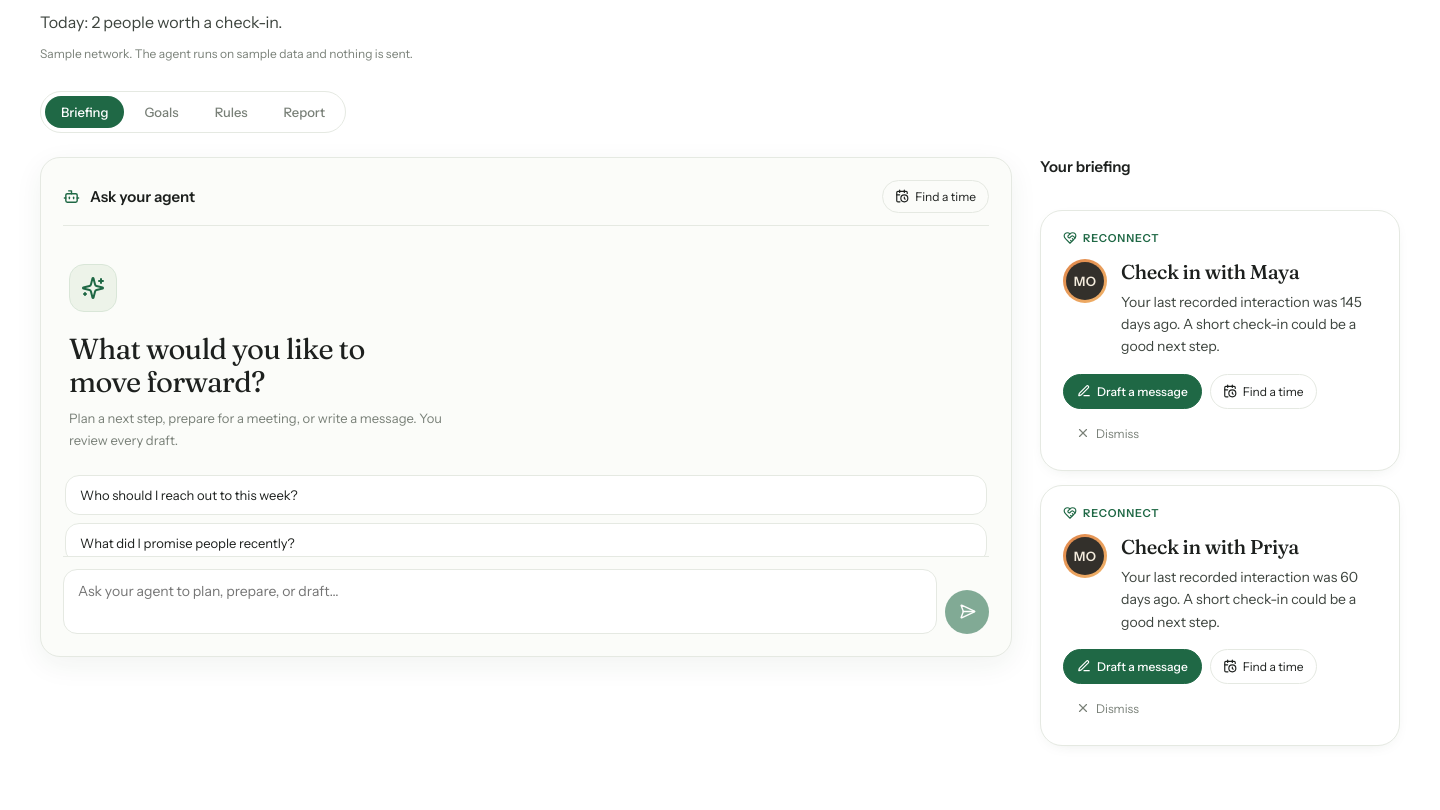
agent home › finds a time with someone from a reconnect card
The width and height of the screenshot is (1440, 810).
(page scrolled)
Click the button "Find a time" below "Check in with Priya" at (1263, 666), box [1210, 649, 1316, 684]
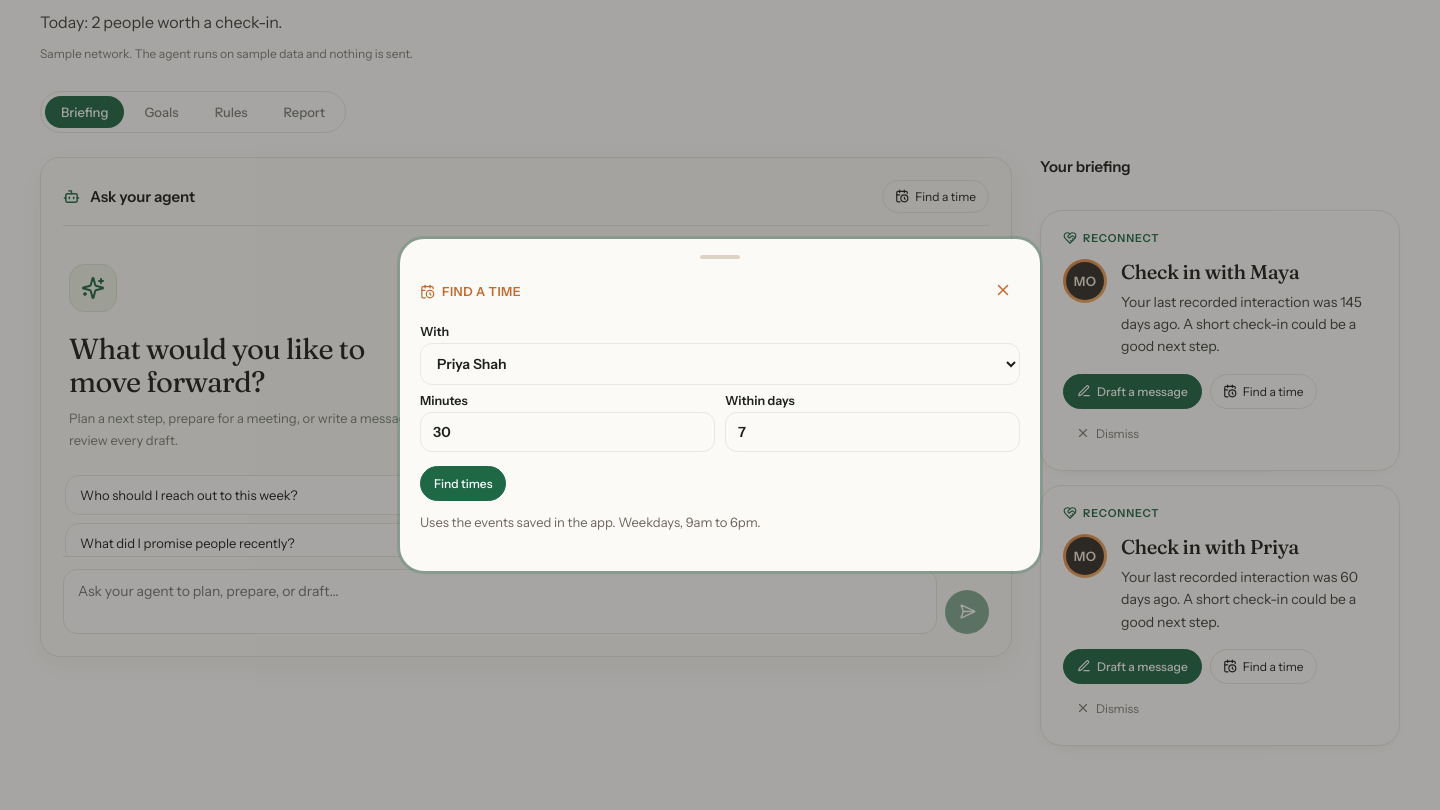
Now the dropdown shows "Priya Shah", box [420, 343, 1020, 385]
